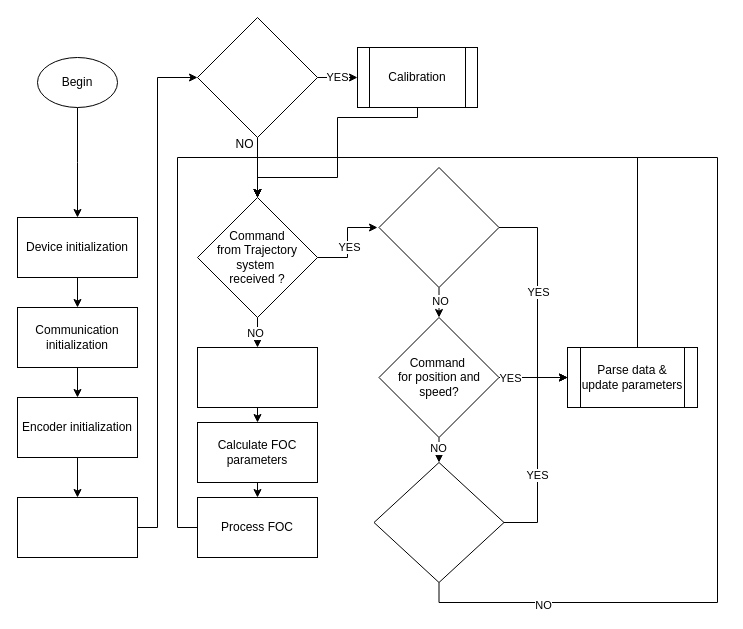
Some shapes in this 743 by 629 pixel diagram are drawn without their labels. Each missing label, with the centre of its shape:
"Calibration needed?" belongs at (257,77).
"Command for feed forward torque?" belongs at (438,227).
"Command for position, speed and torque feed forward?" belongs at (438,522).
"Get sensor position, velocity,torque" belongs at (257,377).
"Status indication" belongs at (77,527).
